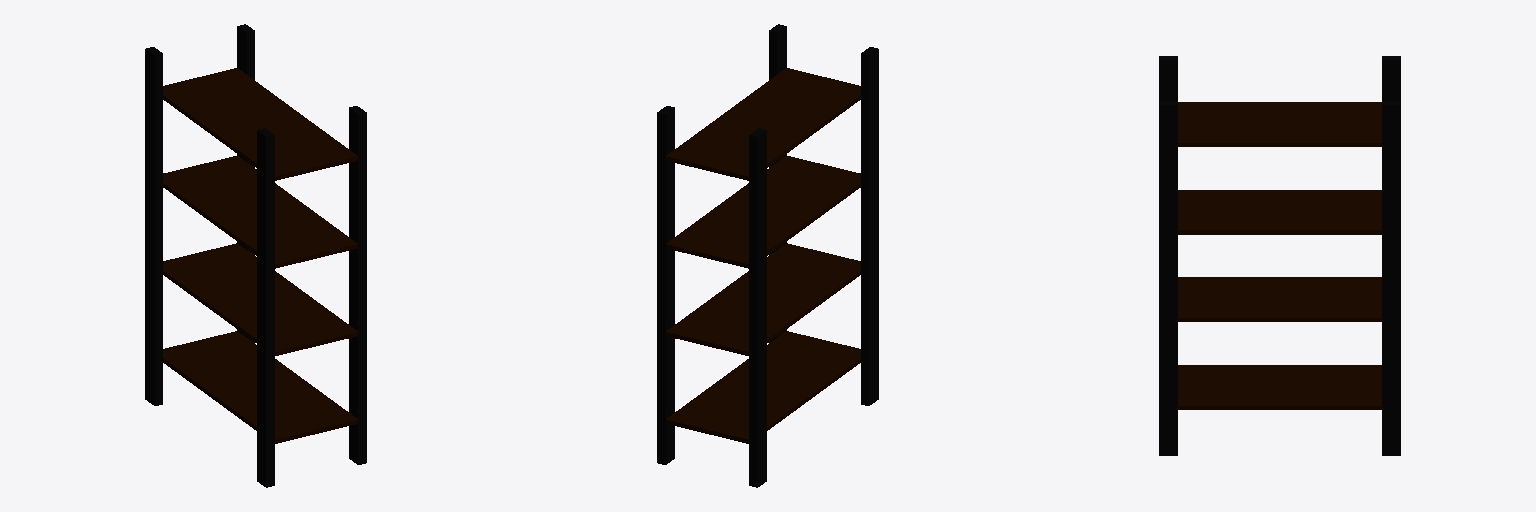
Rendered from shelf.obj.
3 views of the same model, side by side, from view 1: azimuth 30°, elevation 25°; view 2: azimuth 150°, elevation 25°; view 3: azimuth 270°, elevation 25° (orthographic).
Parts seen in each view (by area): view 1: Cube.003, Cube, Cube.002, Cube.001, Cube.007, Cube.006, Cube.005, Cube.004; view 2: Cube.003, Cube, Cube.002, Cube.001, Cube.006, Cube.007, Cube.004, Cube.005; view 3: Cube, Cube.001, Cube.002, Cube.003, Cube.004, Cube.005, Cube.006, Cube.007.
Part boxes in pixels (x1,y1,x2,y2): Cube.003: (163,68,357,180); Cube: (163,331,357,443); Cube.002: (163,156,357,268); Cube.001: (163,243,357,355); Cube.007: (257,128,274,487); Cube.006: (145,47,162,405); Cube.005: (349,106,366,464); Cube.004: (237,24,254,342); Cube.003: (666,68,860,180); Cube: (666,331,860,443); Cube.002: (666,156,860,268); Cube.001: (666,243,860,355); Cube.006: (749,128,766,487); Cube.007: (861,47,878,405); Cube.004: (657,106,674,464); Cube.005: (769,24,786,342); Cube: (1178,365,1381,409); Cube.001: (1178,277,1381,321); Cube.002: (1178,190,1381,234); Cube.003: (1178,102,1381,146); Cube.004: (1382,101,1400,455); Cube.005: (1159,101,1177,455); Cube.006: (1382,56,1400,100); Cube.007: (1159,56,1177,100).
Size of the model in its own units: 2.4 by 8 by 5.